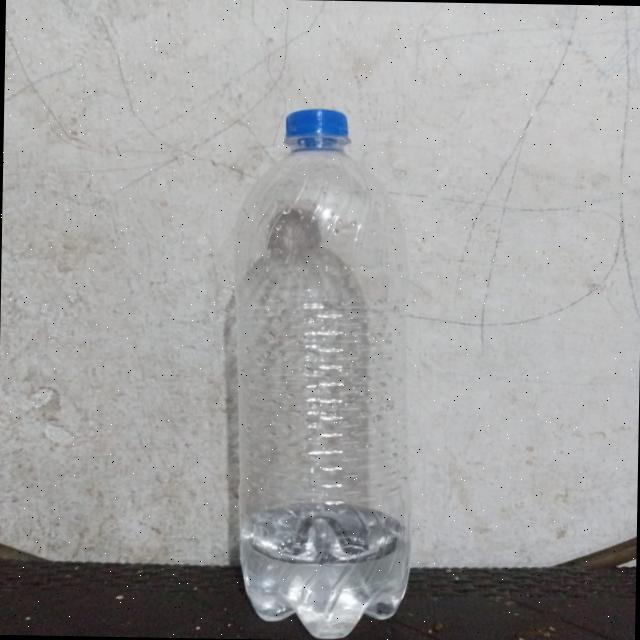bottle: (196, 88, 434, 640)
cap: (272, 103, 354, 153)
